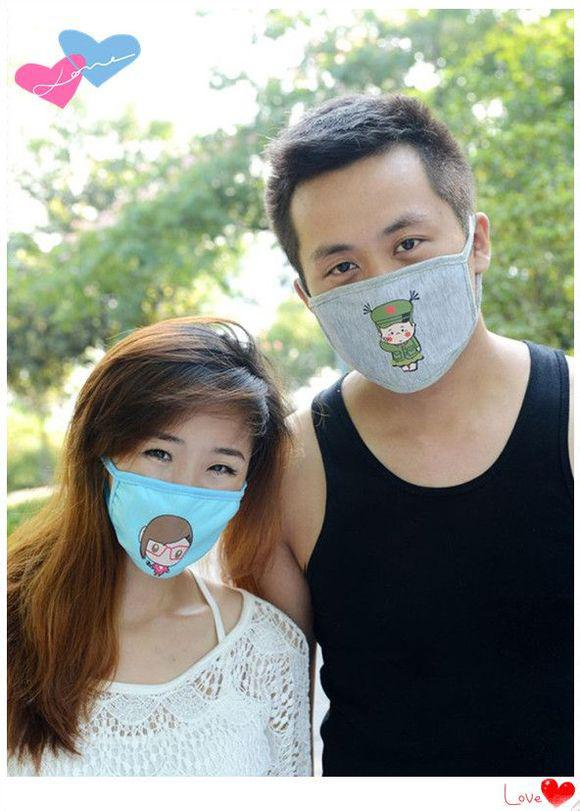OK: (303, 191, 482, 387), (103, 423, 250, 574)
